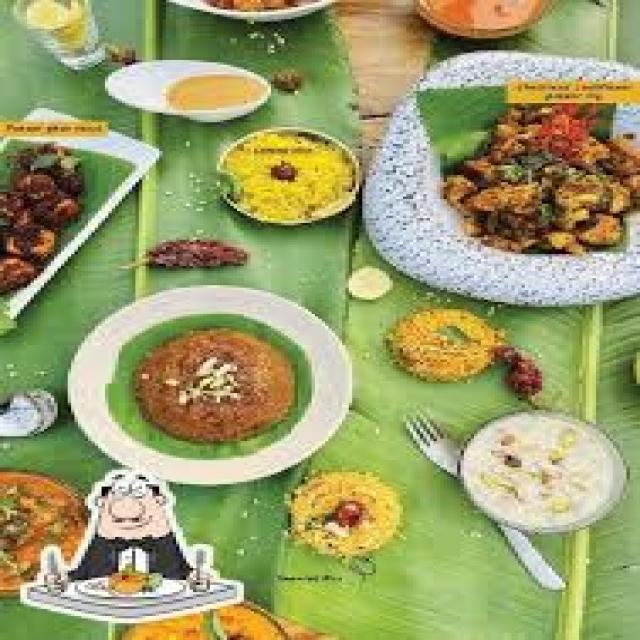pickle: (107, 320, 337, 459), (276, 468, 409, 560), (81, 472, 181, 570), (145, 240, 251, 274)
sambar-rasam: (141, 66, 264, 118)
sweet: (455, 416, 621, 530), (220, 125, 365, 227), (403, 1, 571, 44)
veg-fry: (453, 79, 633, 252), (141, 0, 347, 19)
